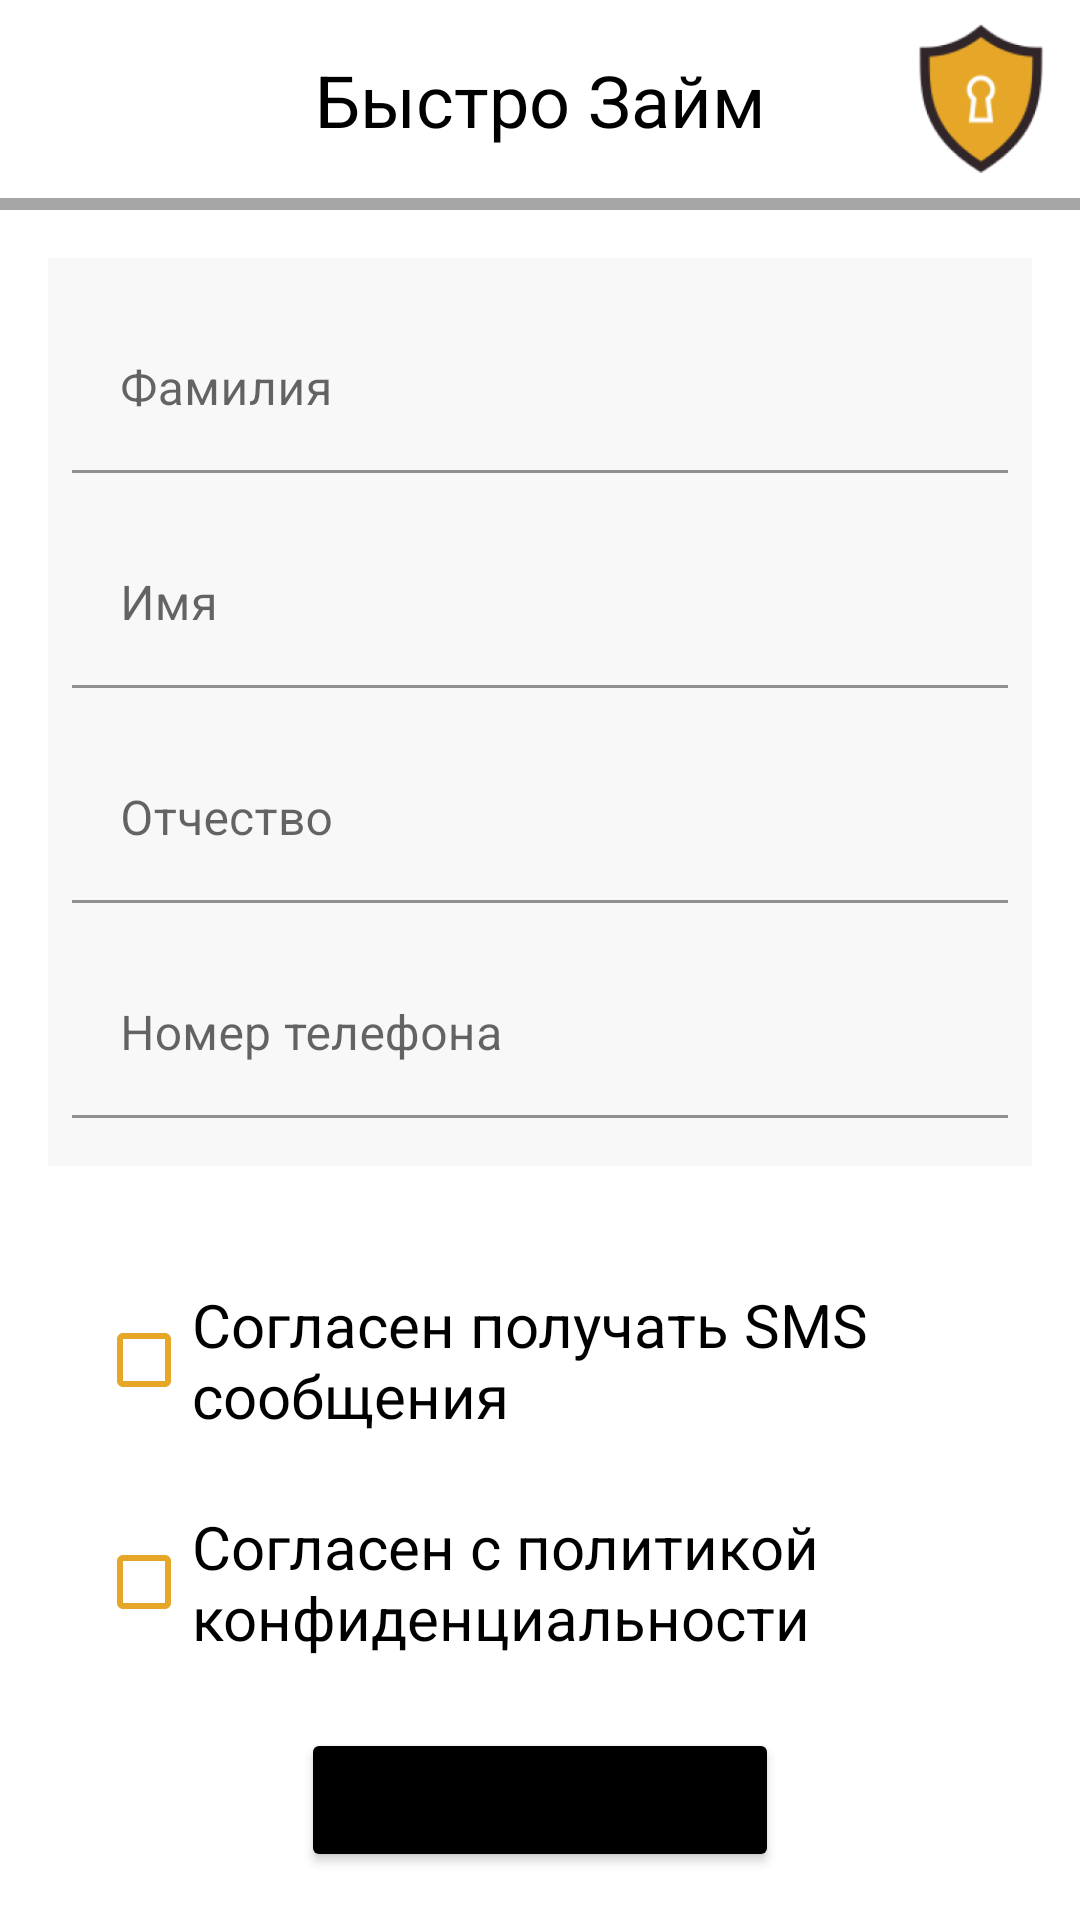

Where icons sit on this 1080 × 1920 app screen, as (x1, y1, x2, y2):
lock: (919, 25, 1043, 173)
